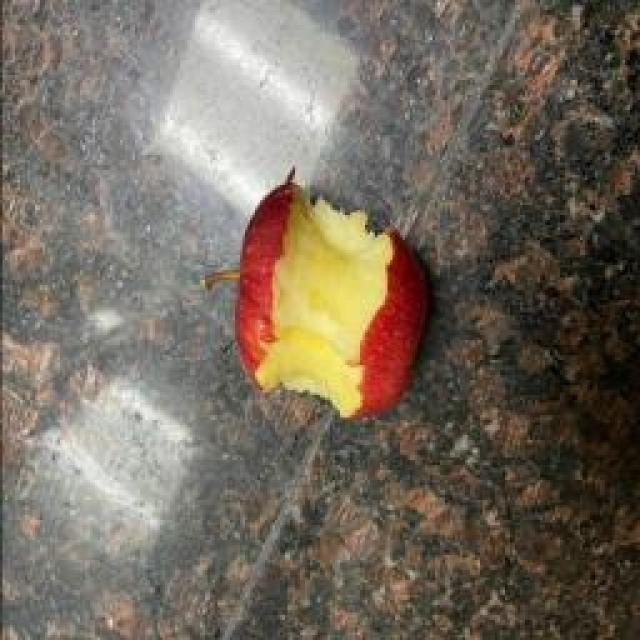Apple: (235, 174, 428, 417)
